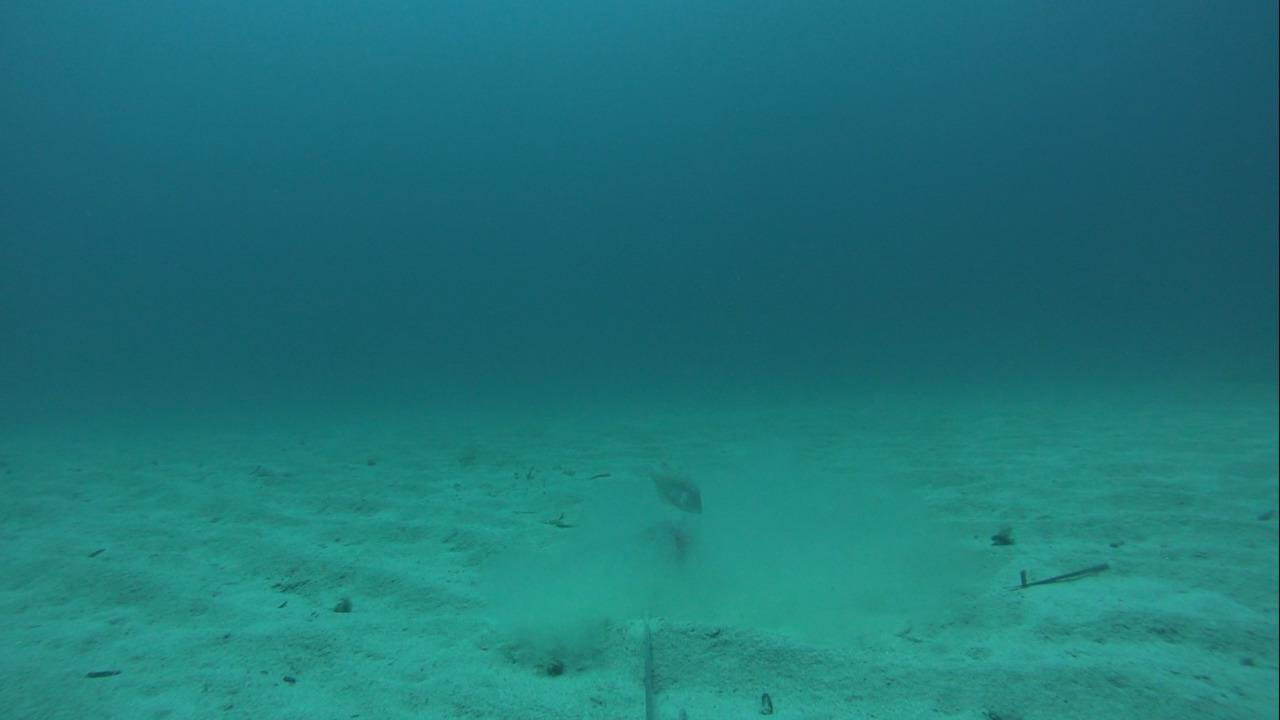raor: (634, 456, 710, 518)
